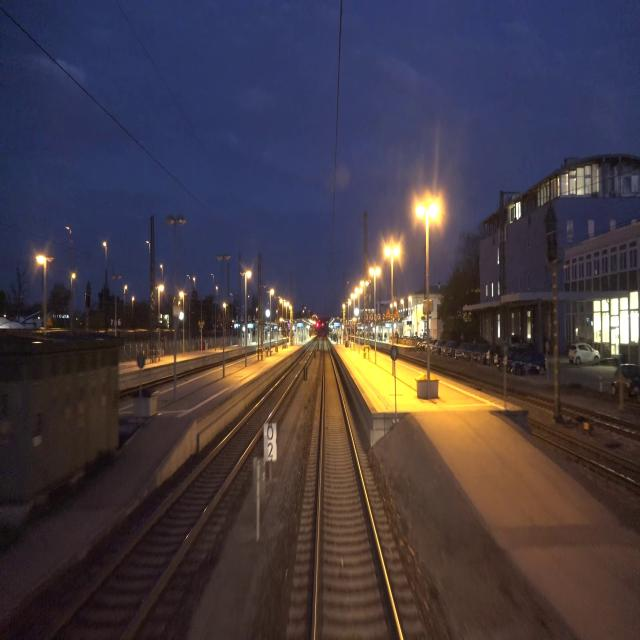rail-track: (50, 347, 312, 639), (317, 345, 399, 639), (527, 423, 640, 479), (561, 403, 640, 431)
